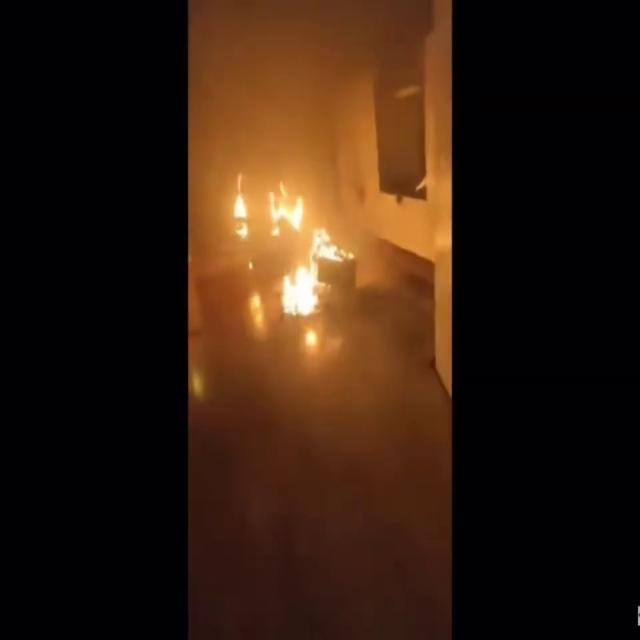Fire: (237, 176, 352, 337)
Smoke: (187, 0, 448, 205)
